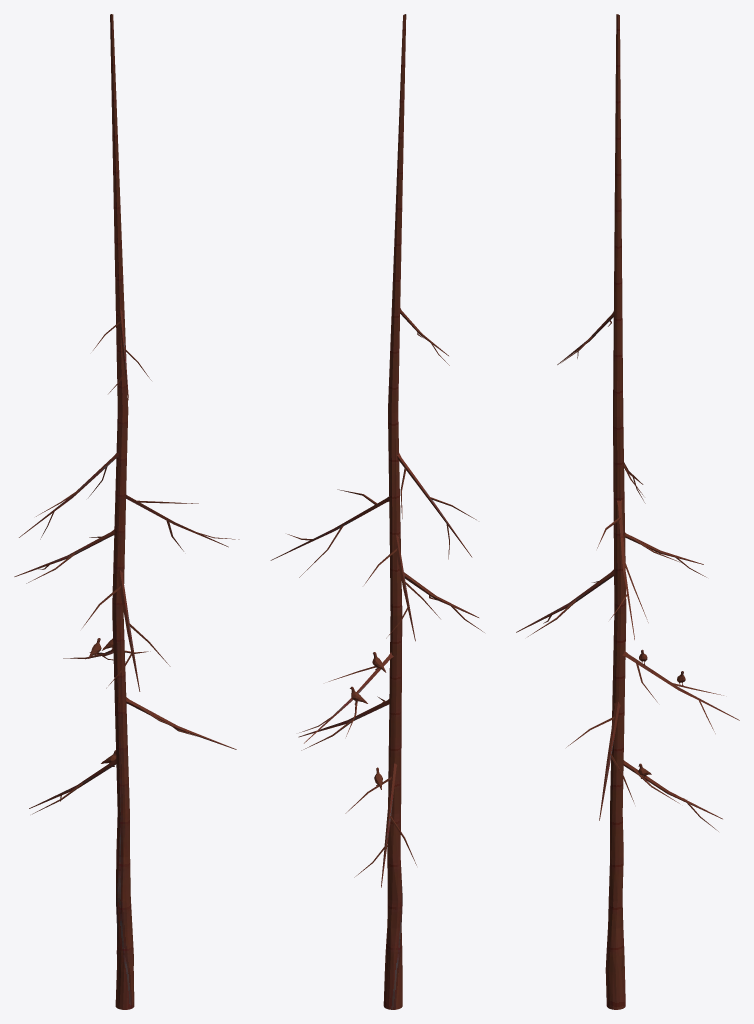
File: Tree_07b.fbx
3 renders of one model, left to right at view 1: azimuth 30°, elevation 25°; view 2: azimuth 150°, elevation 25°; view 3: azimuth 270°, elevation 25°, orthographic.
Parts seen in each view (by area): view 1: SM_Tree_07b.mo; view 2: SM_Tree_07b.mo; view 3: SM_Tree_07b.mo.
Part boxes in pixels (x1=…): SM_Tree_07b.mo: x1=14, y1=14, x2=239, y2=1009; SM_Tree_07b.mo: x1=270, y1=14, x2=484, y2=1009; SM_Tree_07b.mo: x1=516, y1=14, x2=739, y2=1009.
Size of the model in its own units: 470 by 2166 by 446.
